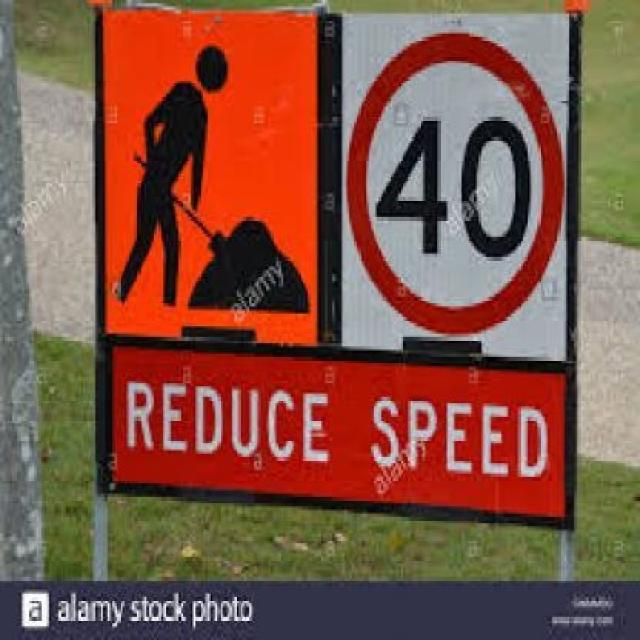forb_speed_over_40: (354, 31, 560, 327)
